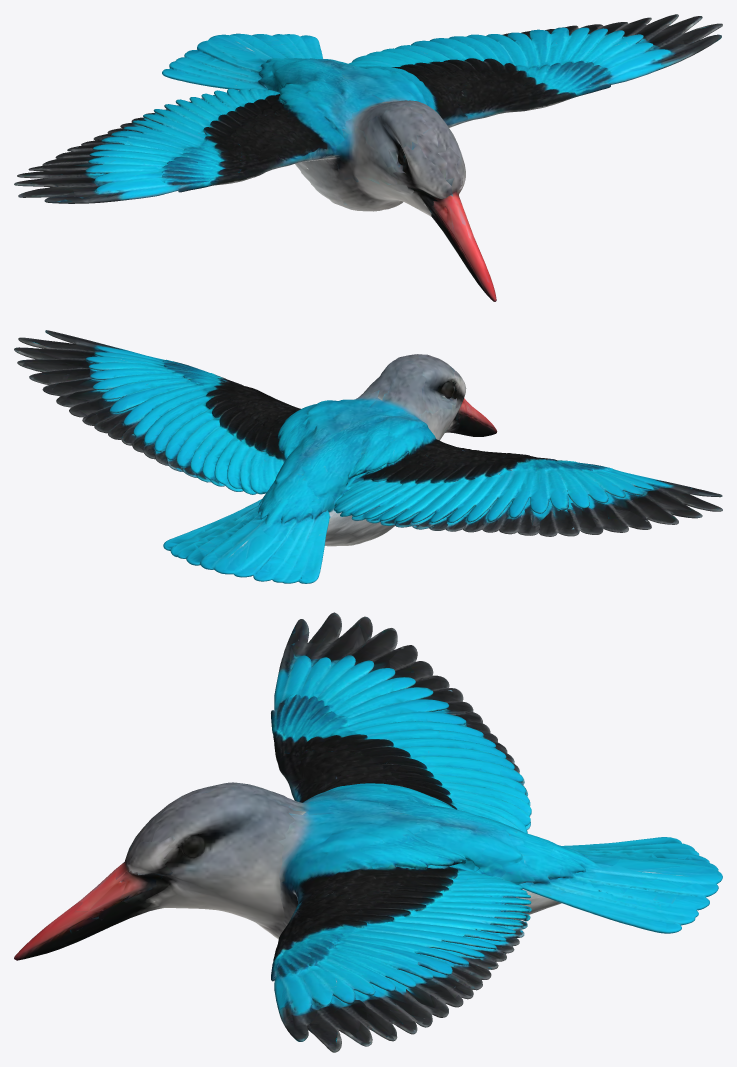
The model's file is Halcyon_senegalensis.glb.
The picture shows the model from 3 angles, top to bottom: view 1: azimuth 30°, elevation 25°; view 2: azimuth 150°, elevation 25°; view 3: azimuth 270°, elevation 25°; orthographic projection. The views are drawn at different scales.
Visible parts, largest first — view 1: orient; view 2: orient; view 3: orient.
Boxes of the visible parts, box(x1,y1,x2,y2) form: orient: box(14, 14, 722, 301); orient: box(14, 330, 722, 583); orient: box(14, 612, 722, 1052).
Bounding box in the file's own units: 0.5001 × 0.0917 × 0.3413.
Materials: 1 (1 with a texture image).
